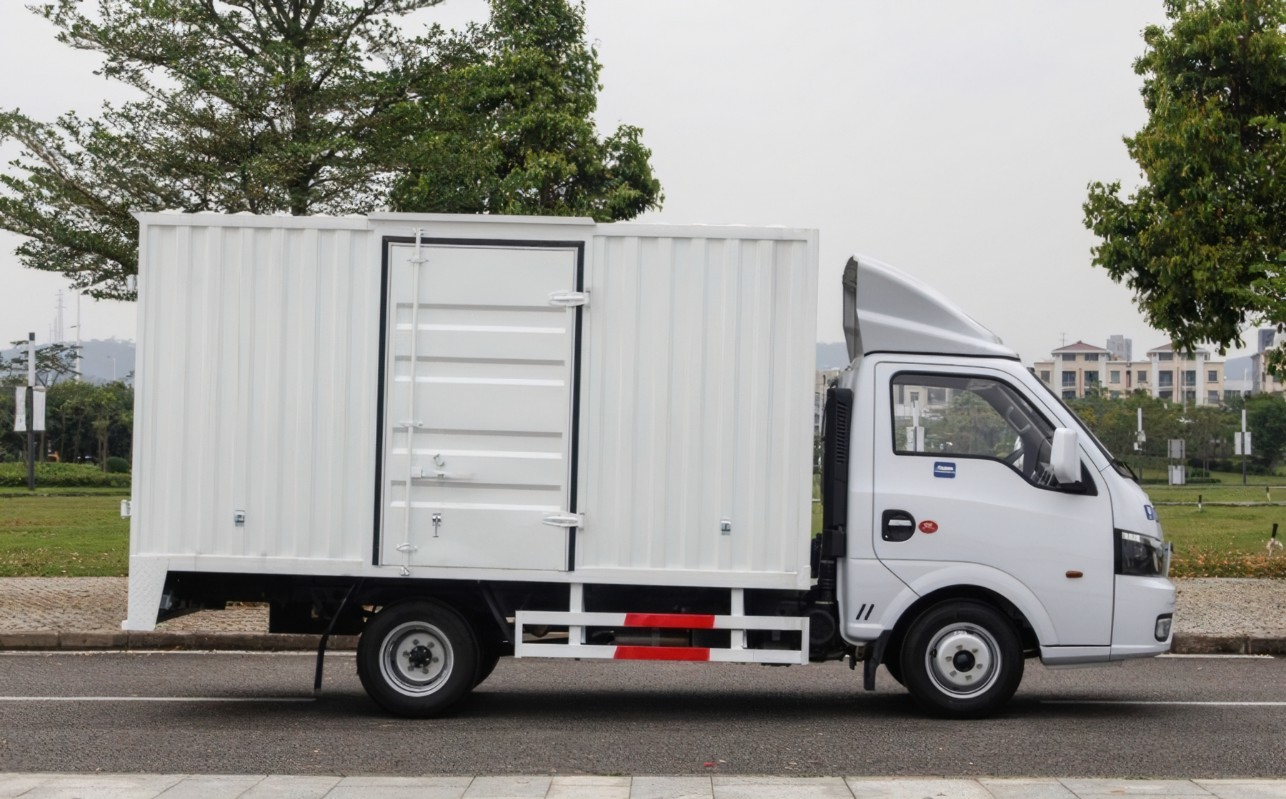smalltruck: (90, 136, 1203, 745)
